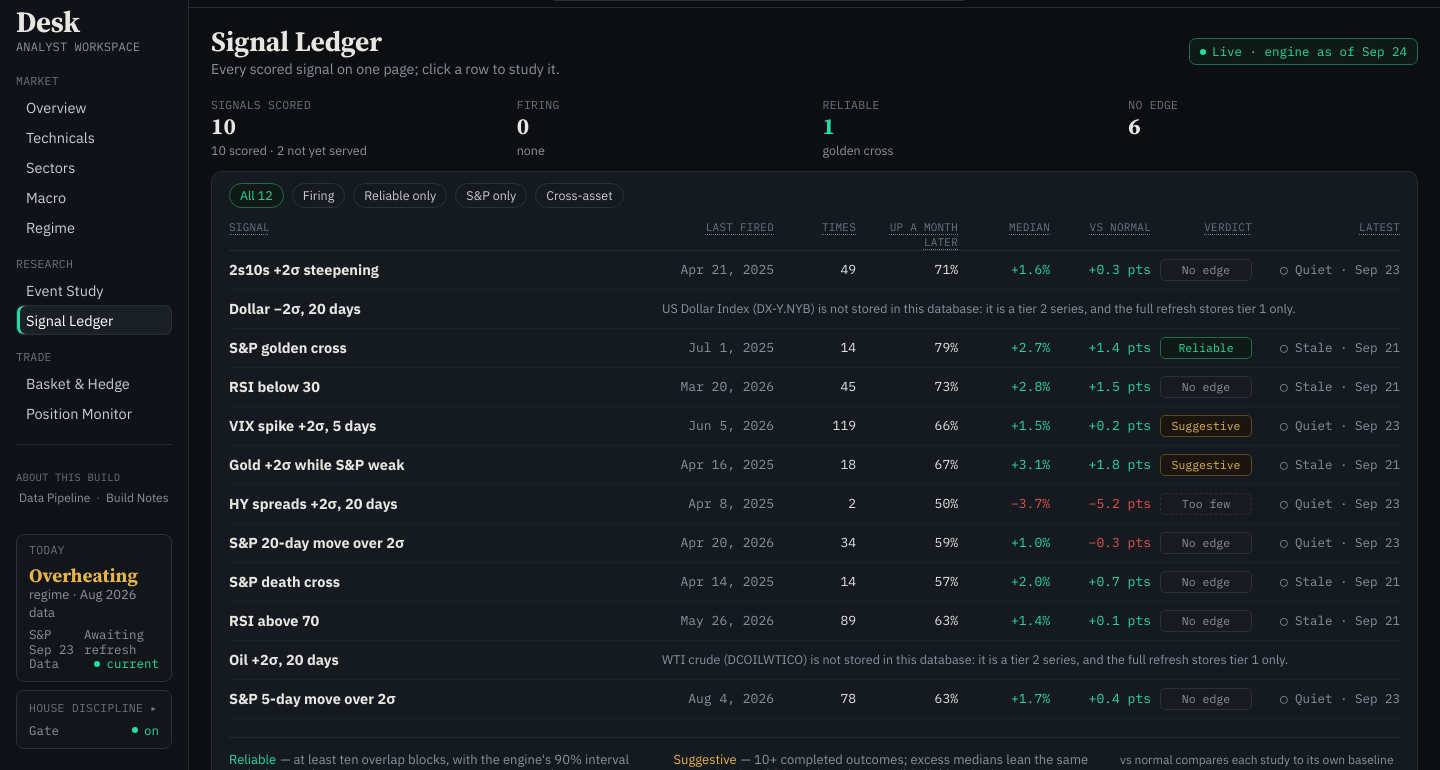
Signal Ledger tab › a filter narrows the table; a row opens its study in Event Study
The width and height of the screenshot is (1440, 770).
Expected: the table is shown, [229,210,1400,719]
Click the button "Reliable only" at (400, 196), box [353,183,447,208]
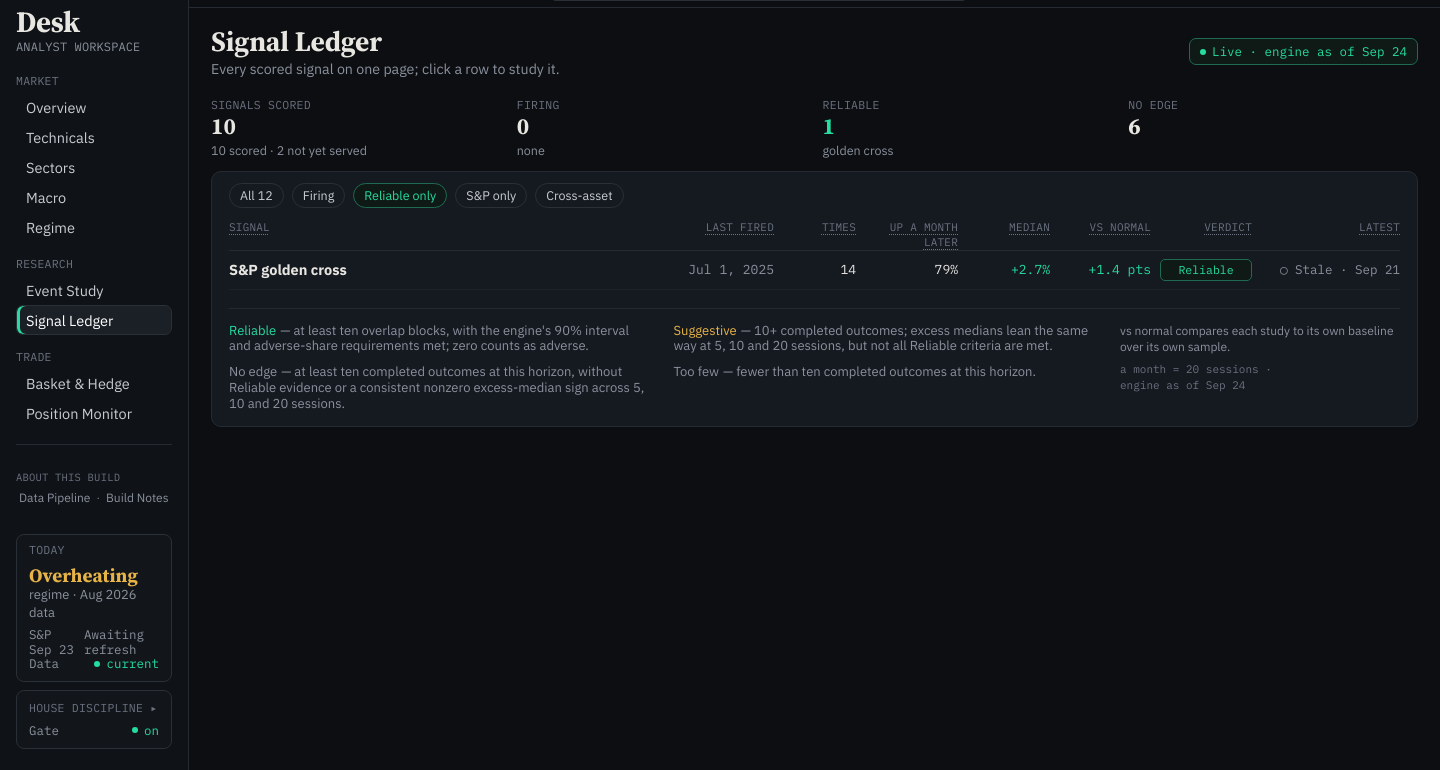
Click the row "S&P golden cross" at (814, 270), box [229,250,1400,289]
(page scrolled)
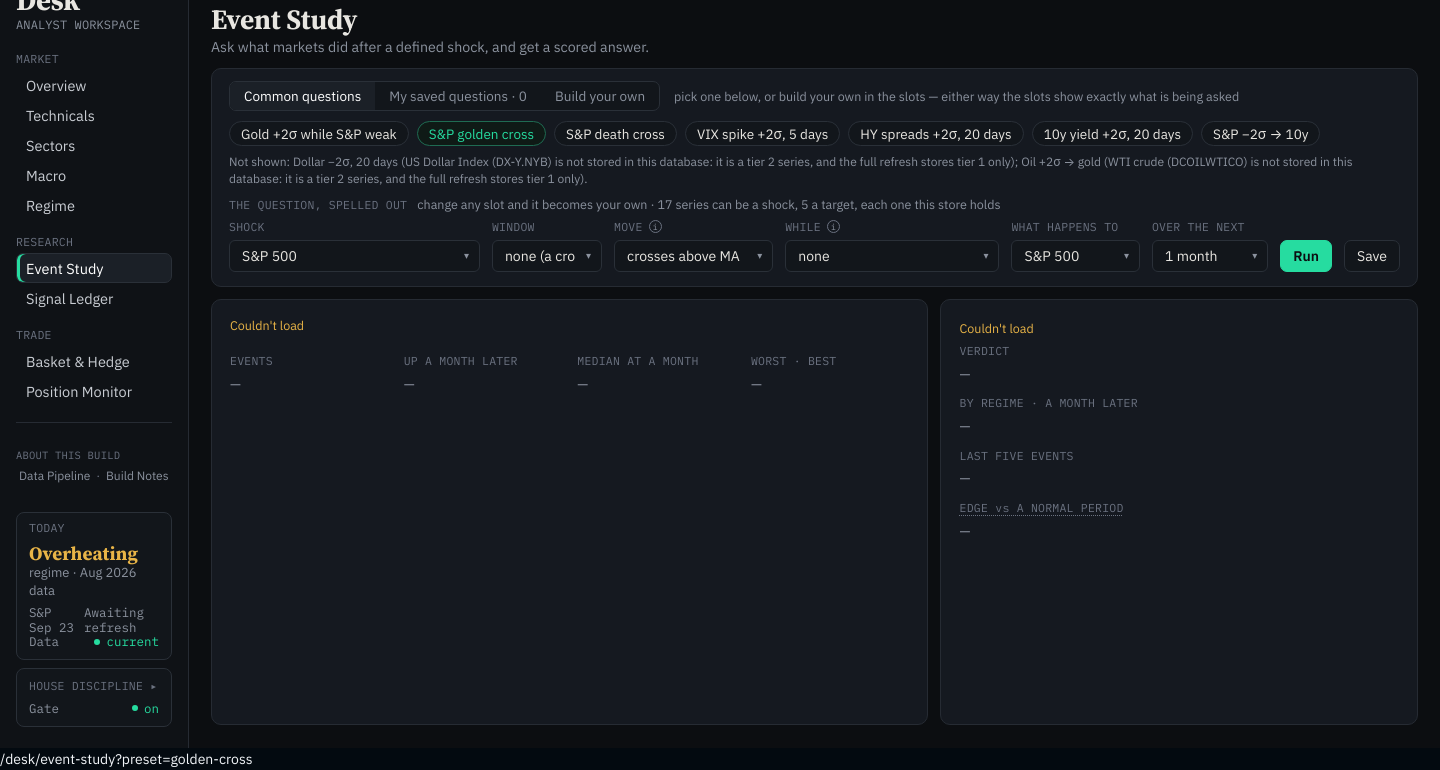
Expected: the text with test id "loc" reads "/desk/event-study?preset=golden-cross", [0,750,252,768]
